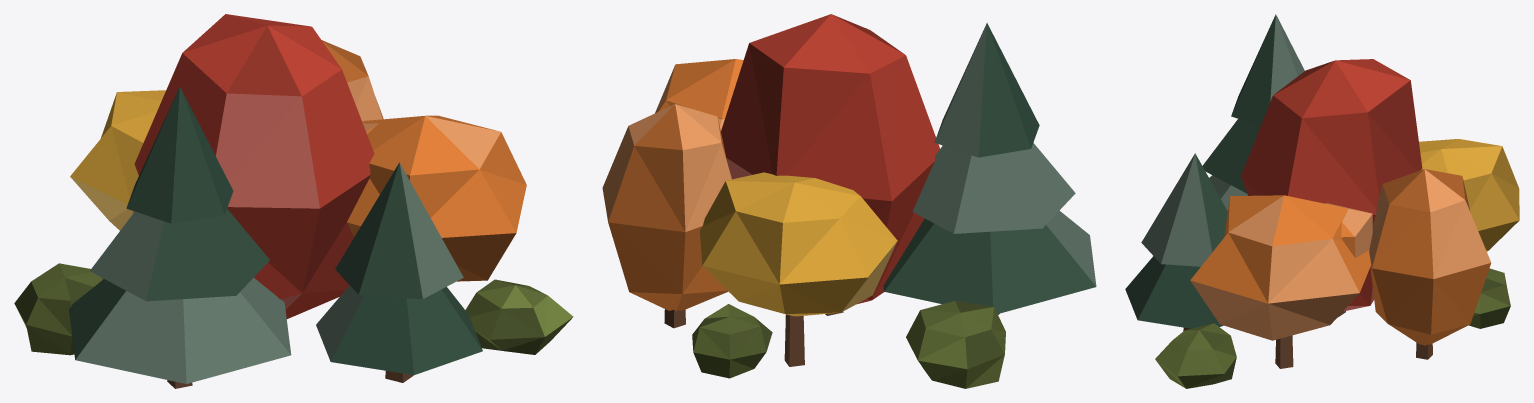
File: SM_TreeCluster_B.fbx
The picture shows the model from 3 angles, left to right: view 1: azimuth 30°, elevation 25°; view 2: azimuth 150°, elevation 25°; view 3: azimuth 270°, elevation 25°; orthographic projection. The views are drawn at different scales.
Parts seen in each view (by area): view 1: SM_TreeCluster_B; view 2: SM_TreeCluster_B; view 3: SM_TreeCluster_B.
Part boxes in pixels (x1,y1,x2,y2): SM_TreeCluster_B: [14, 14, 573, 388]; SM_TreeCluster_B: [602, 14, 1096, 388]; SM_TreeCluster_B: [1125, 14, 1519, 388].
Bounding box in the file's own units: 16.92 × 10.84 × 15.33.
